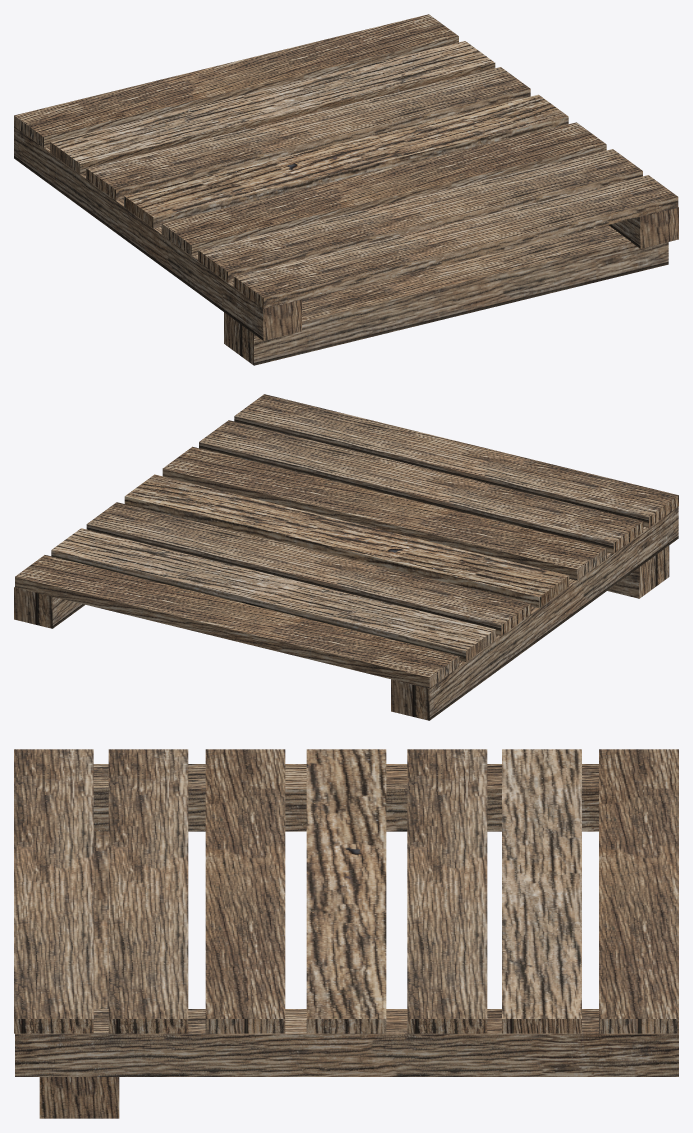
The model's file is abajo Plataforma  madera.fbx.
3 views of the same model, one above another, from view 1: azimuth 30°, elevation 25°; view 2: azimuth 150°, elevation 25°; view 3: azimuth 270°, elevation 25° (orthographic). The views are drawn at different scales.
Parts seen in each view (by area): view 1: Plataforma tablas; view 2: Plataforma tablas; view 3: Plataforma tablas.
Part boxes in pixels (left/top/right/bottom): Plataforma tablas: left=14, top=14, right=678, bottom=365; Plataforma tablas: left=14, top=394, right=678, bottom=720; Plataforma tablas: left=14, top=749, right=678, bottom=1118.
Bounding box in the file's own units: 401 × 68.81 × 417.
1 material, 1 textured.
